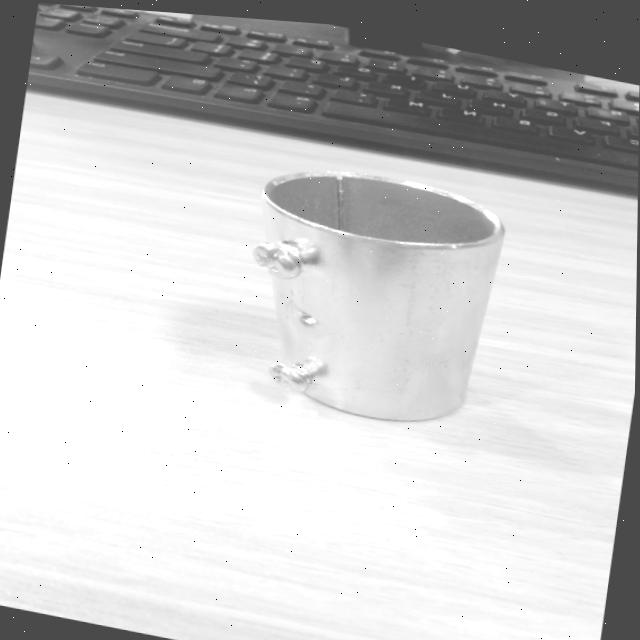Co_Nho: (219, 150, 510, 435)
